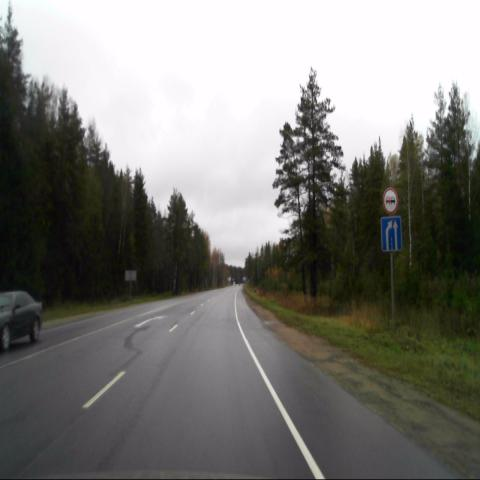5_15_5: (380, 215, 403, 251)
